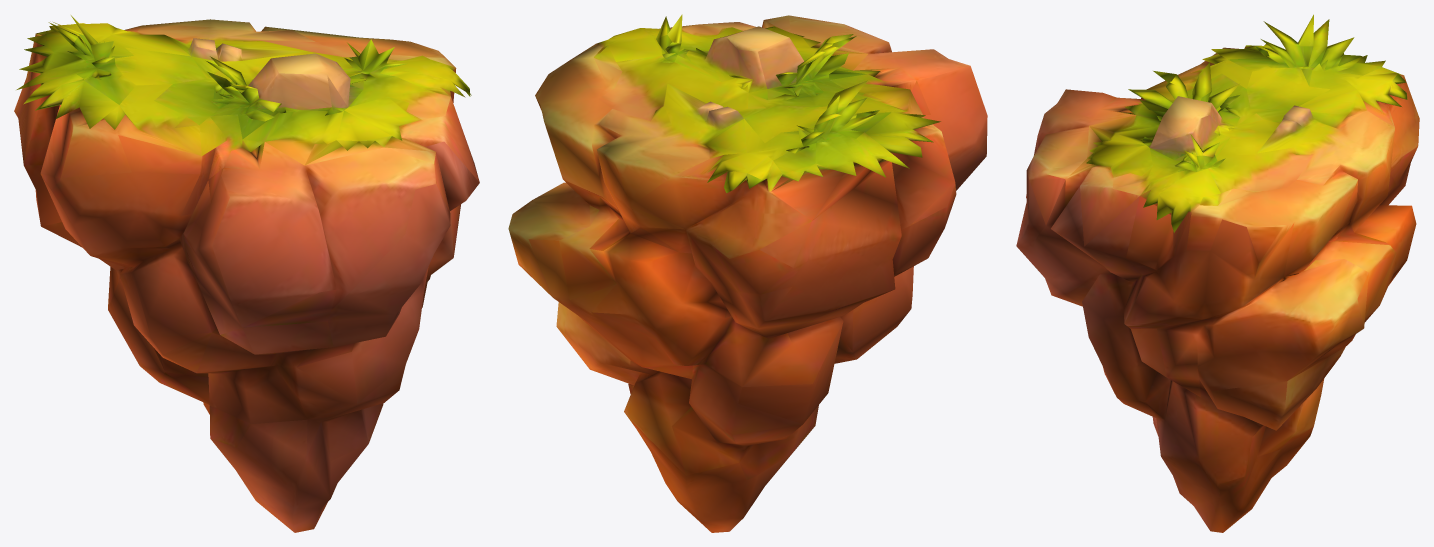
Rendered from rocha.glb.
The picture shows the model from 3 angles, left to right: view 1: azimuth 30°, elevation 25°; view 2: azimuth 150°, elevation 25°; view 3: azimuth 270°, elevation 25°; orthographic projection. The views are drawn at different scales.
Visible parts, largest first — view 1: rocha; view 2: rocha; view 3: rocha.
Boxes of the visible parts, x1,y1,x2,y2 form: rocha: (14,15,479,532); rocha: (508,14,987,532); rocha: (1016,14,1419,532).
Size of the model in its own units: 2.1 by 2.66 by 2.19.
Materials: 1 (1 with a texture image).
